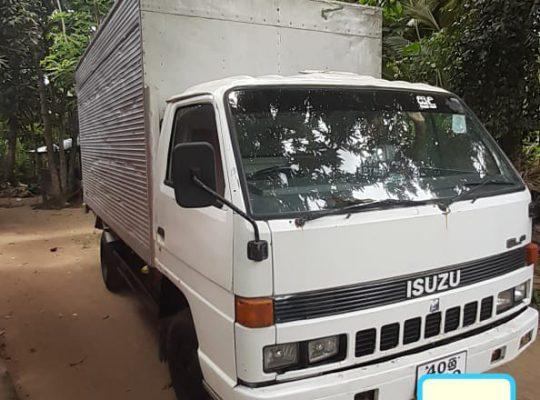truck: (75, 1, 537, 400)
